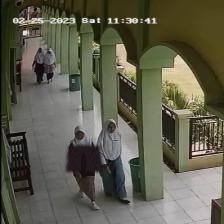Cadar_Niqab: (66, 132, 101, 171)
